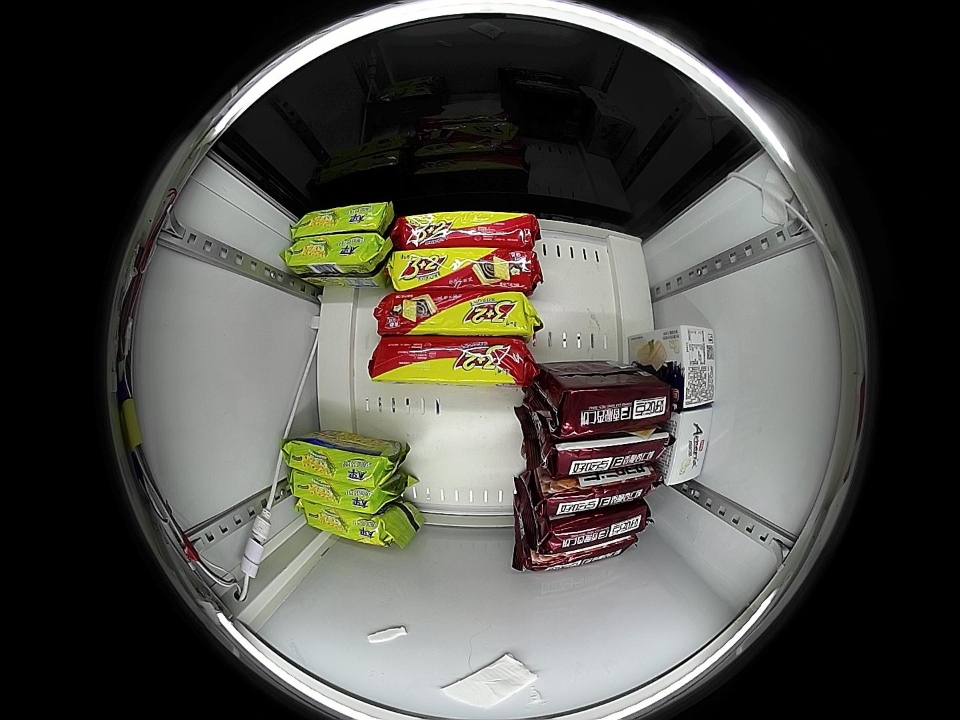3jia2: (370, 337, 534, 387), (382, 290, 536, 337), (389, 248, 537, 292), (395, 210, 537, 249)
haochidian: (553, 374, 670, 435), (533, 504, 654, 549), (539, 470, 662, 513), (545, 431, 667, 474), (516, 537, 644, 573)
meiniye: (657, 405, 713, 486), (664, 324, 717, 409)
taipingshuda: (285, 439, 395, 484), (282, 232, 388, 278), (300, 501, 397, 549), (285, 474, 390, 517), (290, 201, 394, 238)
